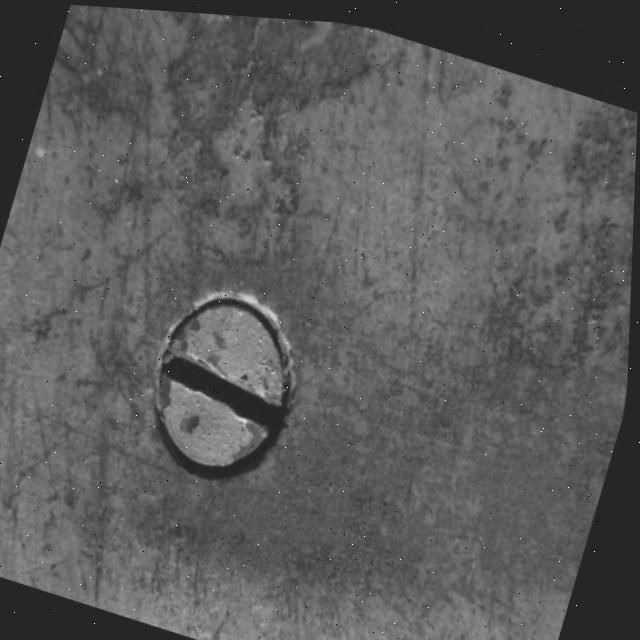Slotted: (100, 240, 334, 500)
